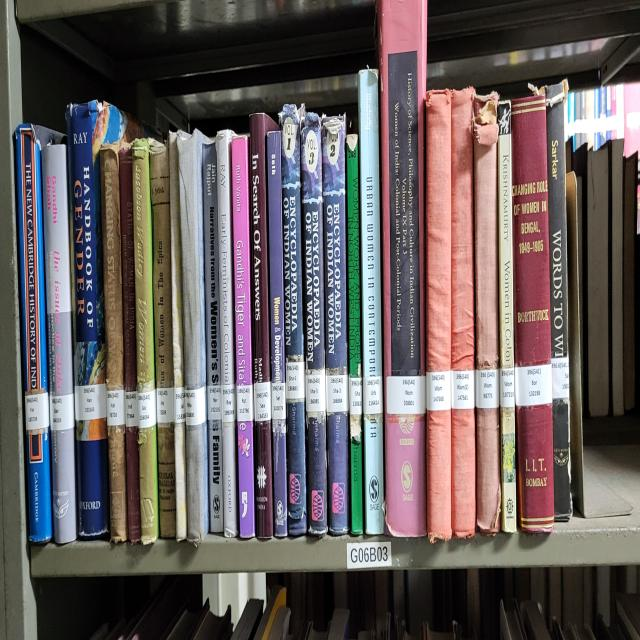Book: (66, 100, 135, 538), (378, 0, 426, 536), (511, 92, 554, 533), (15, 124, 54, 541), (41, 143, 76, 544), (178, 130, 209, 544), (472, 92, 501, 533), (359, 70, 385, 536), (250, 114, 278, 538), (321, 116, 349, 536), (301, 114, 328, 536), (131, 138, 159, 544), (545, 84, 571, 519), (451, 87, 476, 538), (100, 143, 128, 541), (150, 143, 176, 538), (231, 135, 255, 538), (215, 130, 238, 536), (119, 143, 141, 544), (202, 143, 224, 533), (268, 130, 288, 538), (498, 100, 516, 533), (426, 89, 451, 371), (169, 133, 186, 541), (345, 133, 362, 536), (280, 106, 304, 357)
Label: (515, 363, 552, 406), (386, 376, 426, 414), (75, 384, 106, 422), (426, 371, 451, 411), (475, 368, 499, 409), (25, 392, 50, 430), (50, 392, 75, 430), (326, 373, 349, 414), (451, 371, 475, 409), (306, 371, 326, 414), (286, 360, 305, 403), (185, 387, 206, 425), (551, 357, 569, 400), (362, 376, 382, 414), (156, 387, 175, 425), (254, 381, 271, 422), (156, 387, 174, 425), (236, 384, 254, 422), (138, 390, 156, 427), (106, 390, 125, 425), (499, 368, 515, 409), (221, 384, 236, 422), (271, 381, 286, 419), (349, 376, 362, 414), (125, 392, 139, 427), (208, 384, 221, 419), (174, 387, 186, 422)
